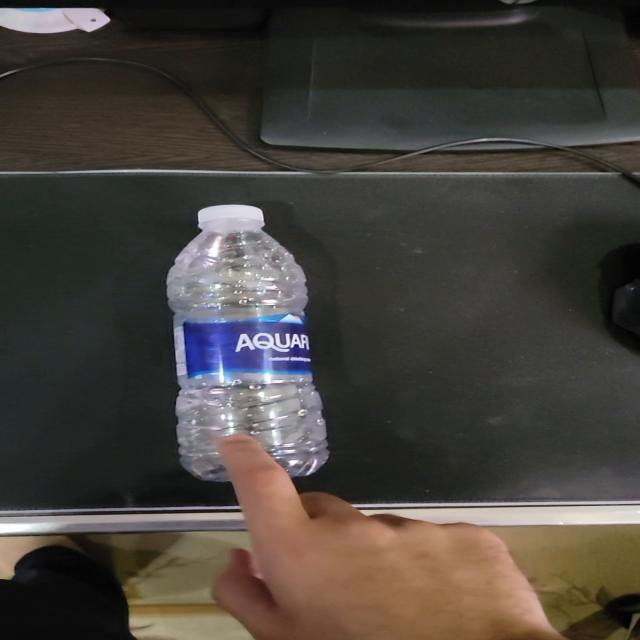Anorganik: (160, 202, 333, 482)
